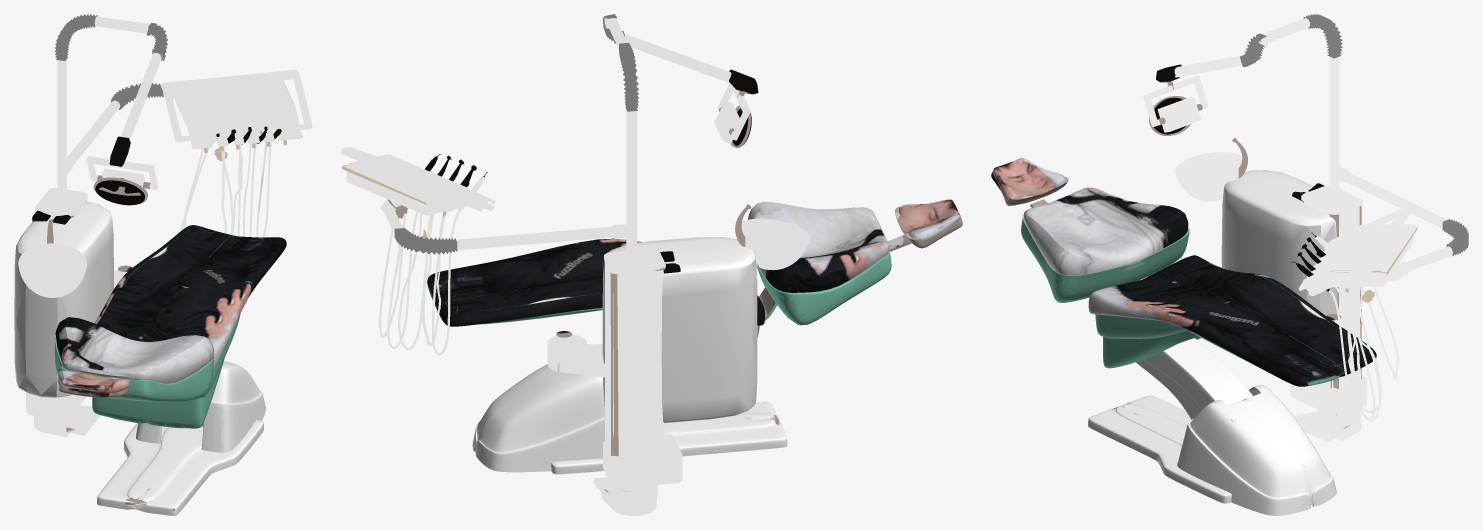
The picture shows the model from 3 angles, left to right: view 1: azimuth 30°, elevation 25°; view 2: azimuth 150°, elevation 25°; view 3: azimuth 270°, elevation 25°; orthographic projection. The views are drawn at different scales.
Visible parts, largest first — view 1: Material_combinado__objMesh; view 2: Material_combinado__objMesh; view 3: Material_combinado__objMesh.
Part boxes in pixels (x1,y1,x2,y2): Material_combinado__objMesh: (14, 14, 312, 515); Material_combinado__objMesh: (341, 14, 962, 515); Material_combinado__objMesh: (991, 14, 1468, 515).
Size of the model in its own units: 201 by 195 by 200.
1 material, 1 textured.
